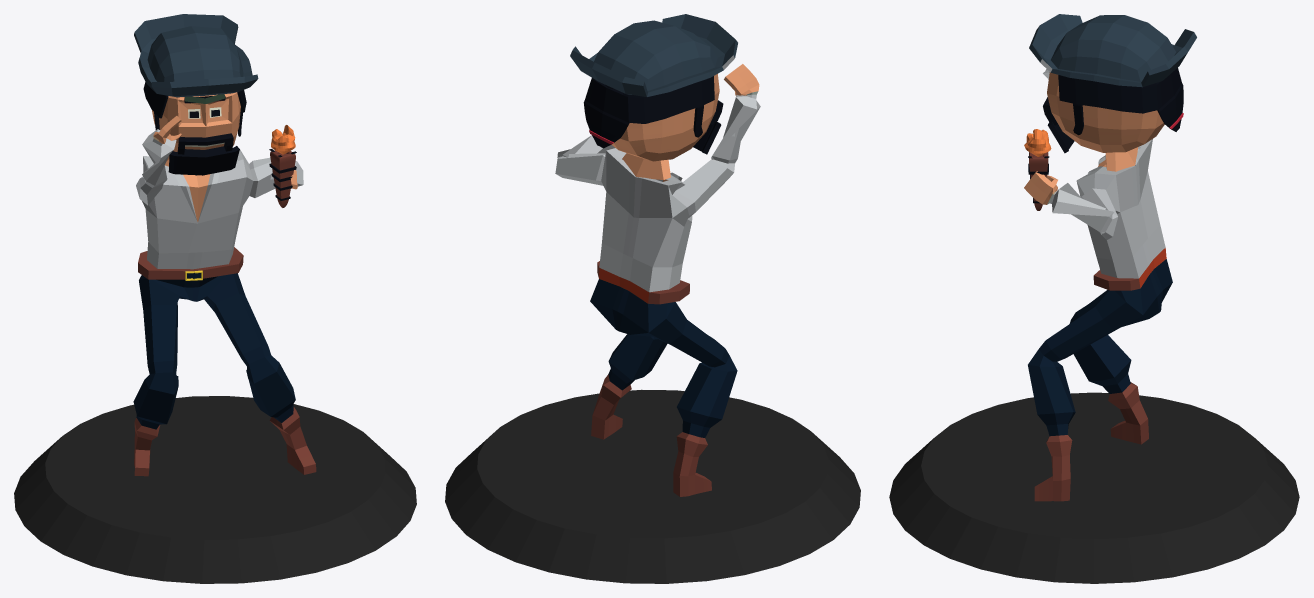
The model's file is Enemy 2.fbx.
The picture shows the model from 3 angles, left to right: view 1: azimuth 30°, elevation 25°; view 2: azimuth 150°, elevation 25°; view 3: azimuth 270°, elevation 25°; orthographic projection. The views are drawn at different scales.
Parts seen in each view (by area): view 1: Cilindro, Cubo, Cubo.003; view 2: Cilindro, Cubo; view 3: Cilindro, Cubo, Cubo.003.
Boxes of the visible parts, <box> form: Cilindro: <box>14,396,416,583</box>; Cubo: <box>133,14,316,476</box>; Cubo.003: <box>269,125,296,207</box>; Cilindro: <box>445,389,860,583</box>; Cubo: <box>555,14,760,496</box>; Cilindro: <box>889,392,1299,583</box>; Cubo: <box>1024,14,1196,501</box>; Cubo.003: <box>1024,129,1051,210</box>.
Size of the model in its own units: 154 by 194 by 154.
